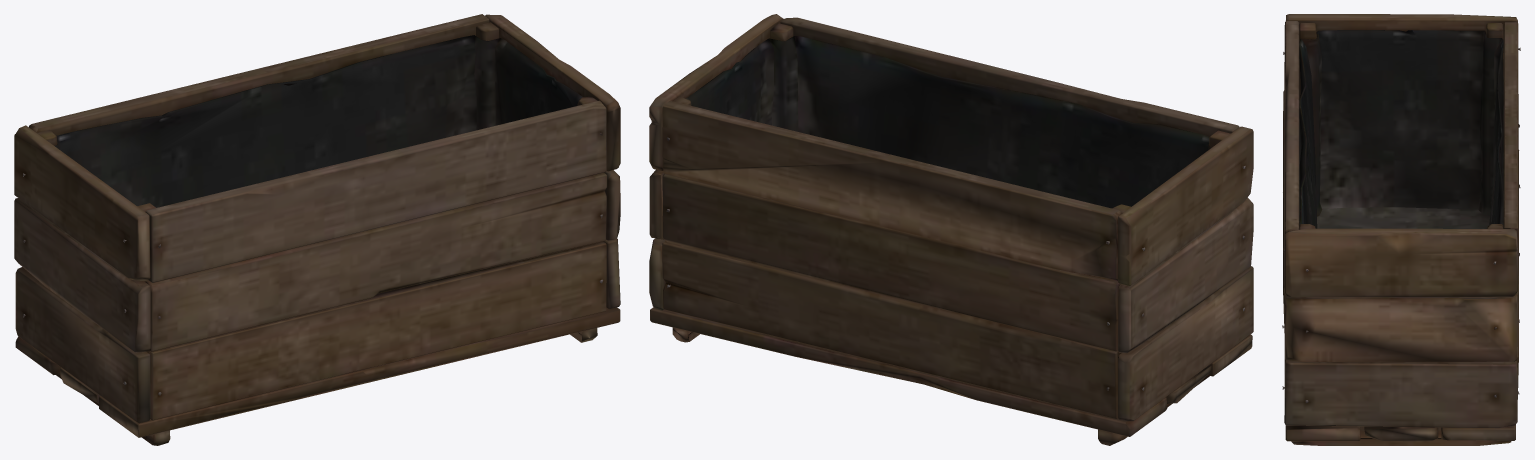
The model's file is planter_box_01.glb.
3 renders of one model, left to right at view 1: azimuth 30°, elevation 25°; view 2: azimuth 150°, elevation 25°; view 3: azimuth 270°, elevation 25°, orthographic. The views are drawn at different scales.
Visible parts, largest first — view 1: planter_box_01; view 2: planter_box_01; view 3: planter_box_01.
Part boxes in pixels (left/top/right/bottom): planter_box_01: left=14, top=14, right=620, bottom=445; planter_box_01: left=649, top=14, right=1253, bottom=445; planter_box_01: left=1282, top=14, right=1520, bottom=445.
Bounding box in the file's own units: 0.9126 × 0.4249 × 0.4135.
Materials: 1 (1 with a texture image).
